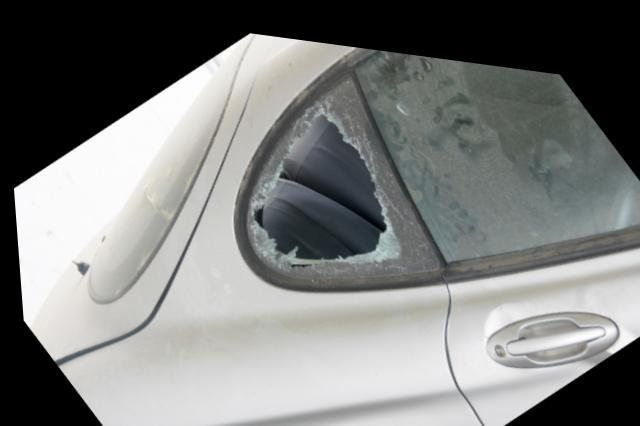glass shatter: (243, 64, 437, 270)
